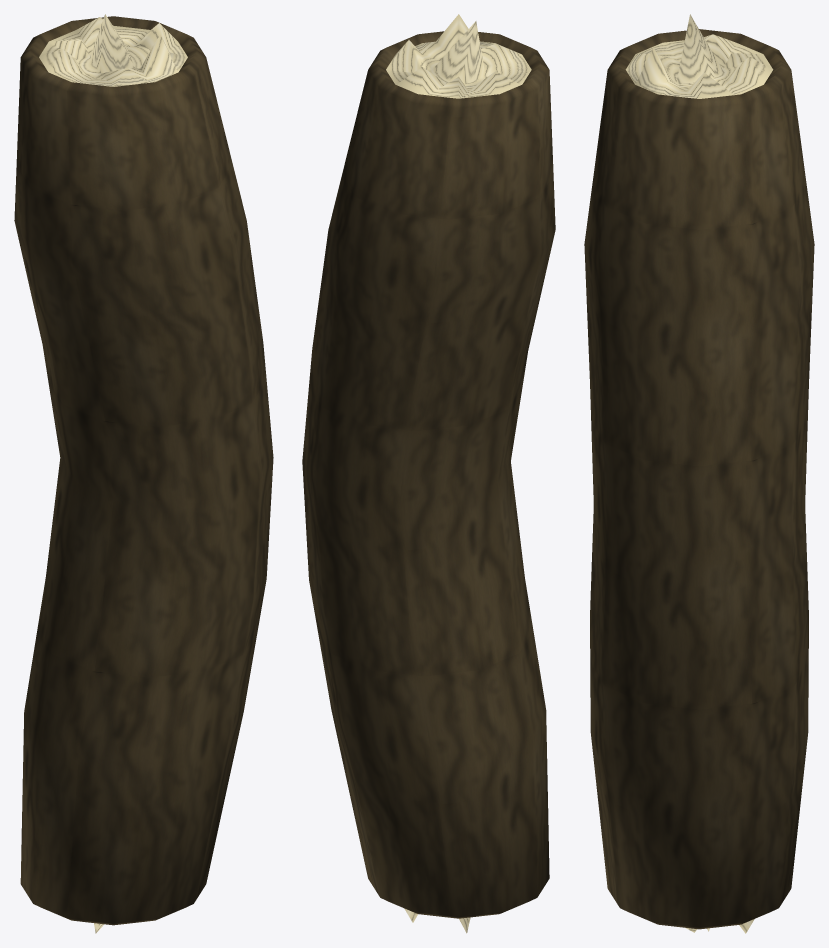
The model's file is ForestLog.FBX.
The picture shows the model from 3 angles, left to right: view 1: azimuth 30°, elevation 25°; view 2: azimuth 150°, elevation 25°; view 3: azimuth 270°, elevation 25°; orthographic projection. The views are drawn at different scales.
Parts seen in each view (by area): view 1: Cylinder001; view 2: Cylinder001; view 3: Cylinder001.
Part boxes in pixels (x1,y1,x2,y2): Cylinder001: [14, 14, 273, 933]; Cylinder001: [302, 14, 555, 933]; Cylinder001: [584, 14, 814, 933].
Bounding box in the file's own units: 142 × 547 × 124.
